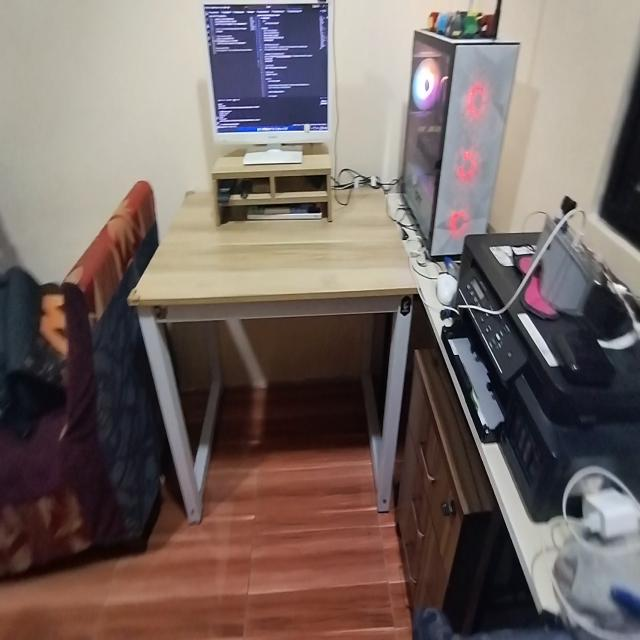table: (136, 168, 420, 528)
